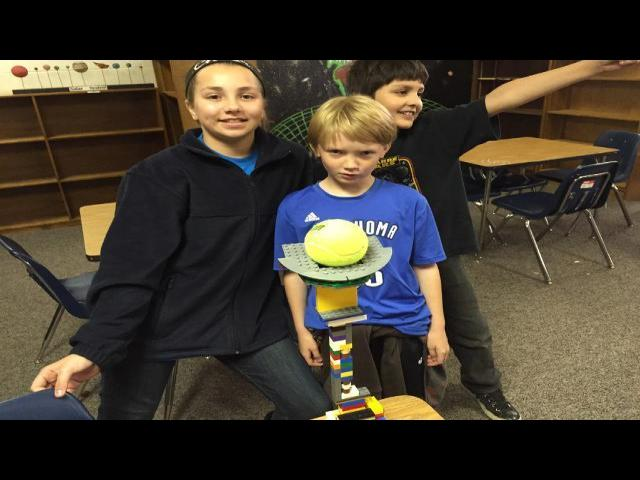tennis-ball: (304, 219, 368, 267)
